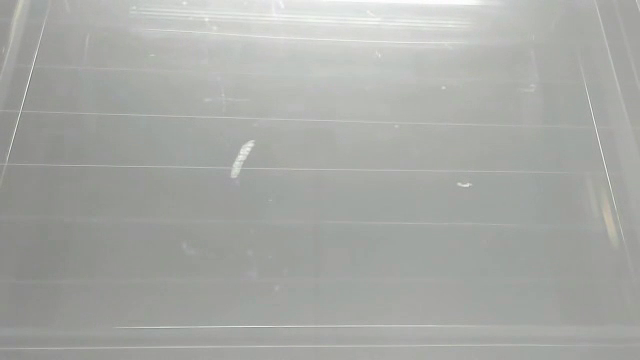alpha: (227, 136, 261, 180), (451, 178, 479, 189)
